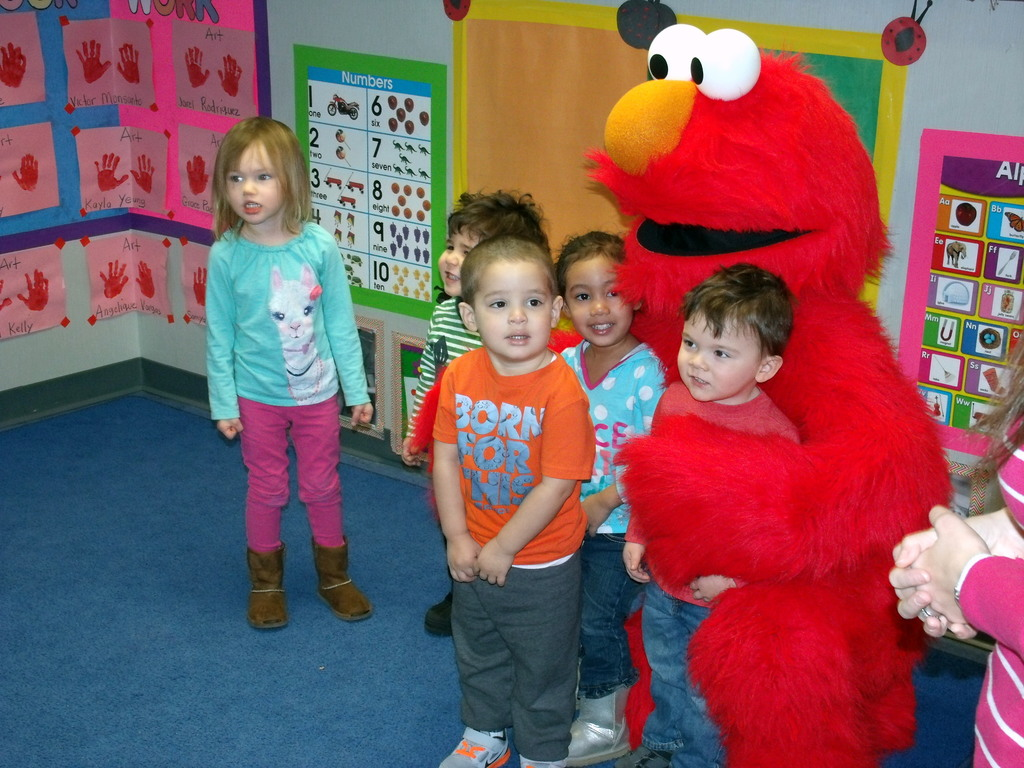Human-face: (676, 312, 764, 405), (478, 262, 551, 362), (569, 254, 631, 346), (225, 142, 287, 225), (434, 224, 465, 294)
